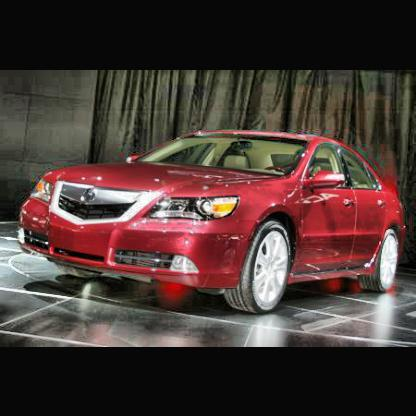Acura RL Sedan 2012: (18, 128, 412, 316)
